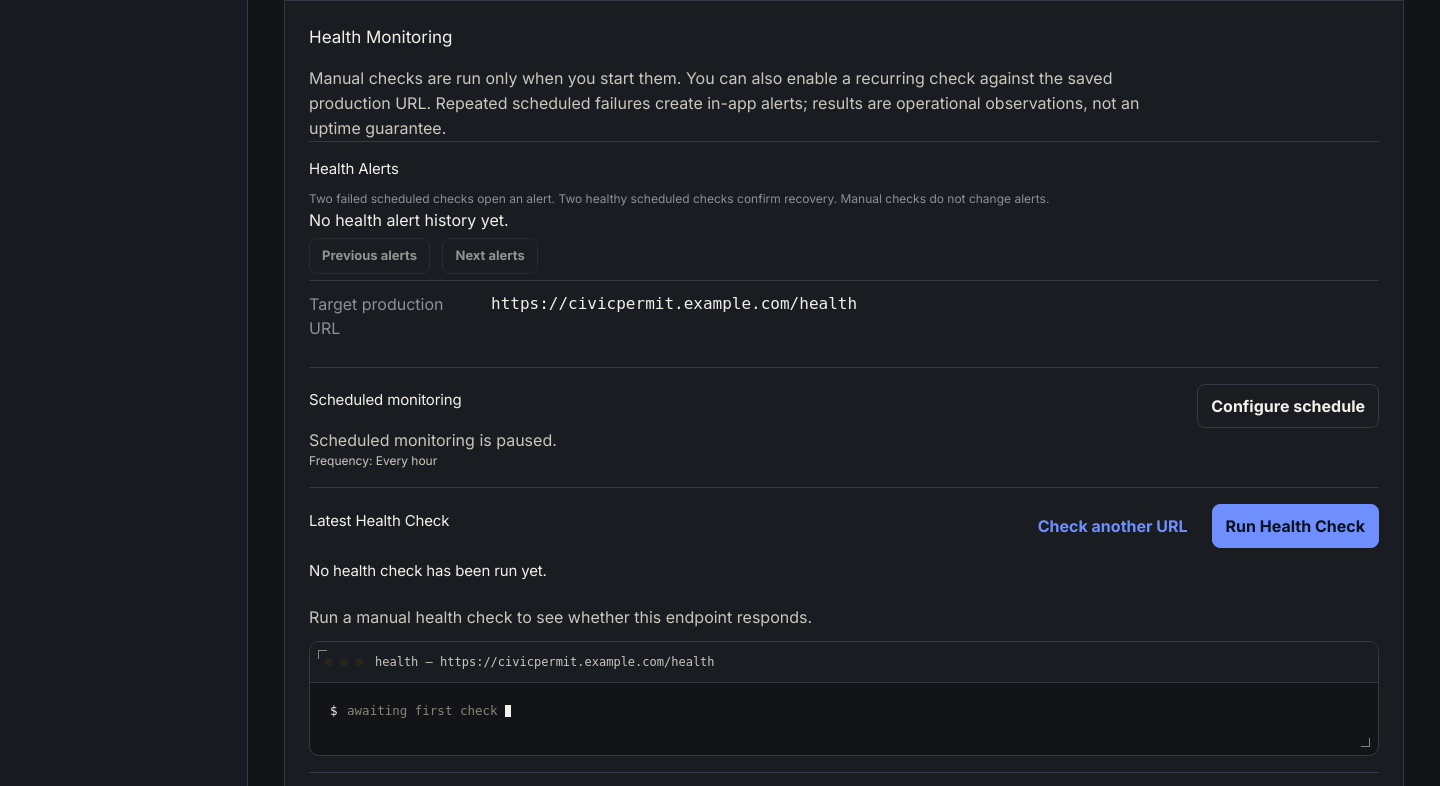
Test case: Project detail Health Monitoring › lets the user enable scheduled monitoring with a supported cadence
(page scrolled)
Check: the text "Scheduled monitoring is paused." is shown, box [309, 430, 557, 450]
Click the button "Configure schedule" at x=1288, y=406, box [1197, 384, 1379, 428]
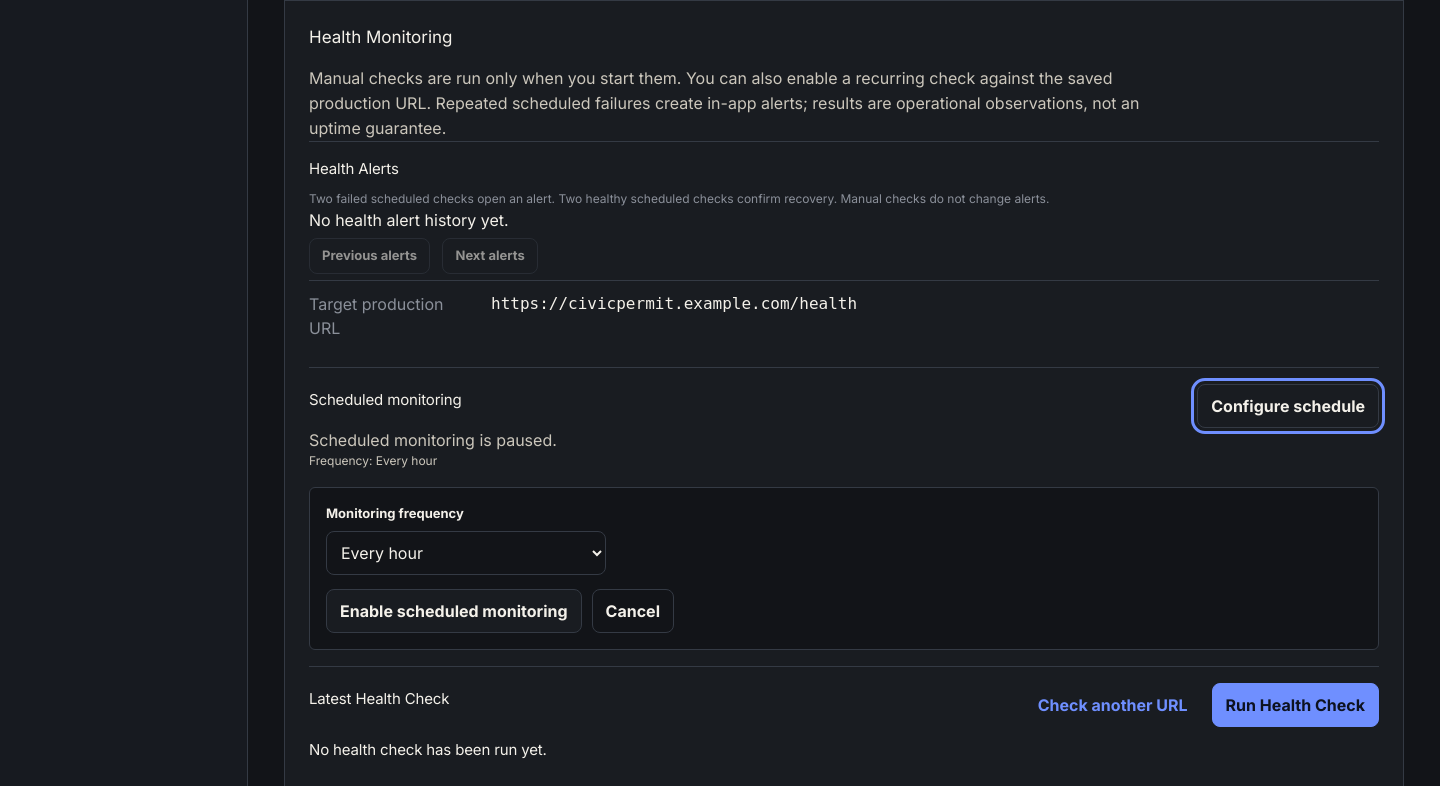
Select "Every hour" in the dropdown labelled "Monitoring frequency" at x=466, y=553, box [326, 531, 606, 575]
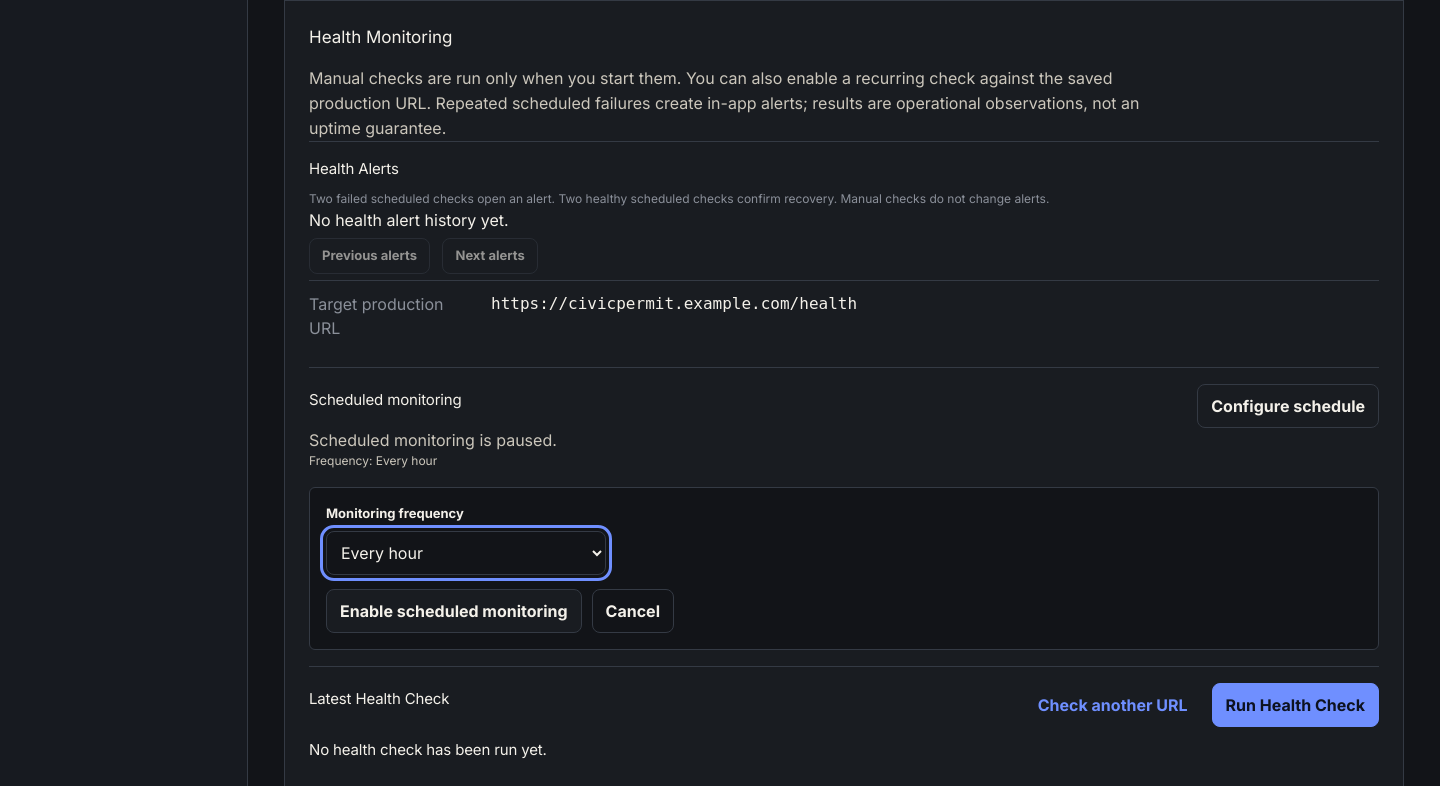
Click the button "Enable scheduled monitoring" at x=454, y=611, box [326, 589, 582, 633]
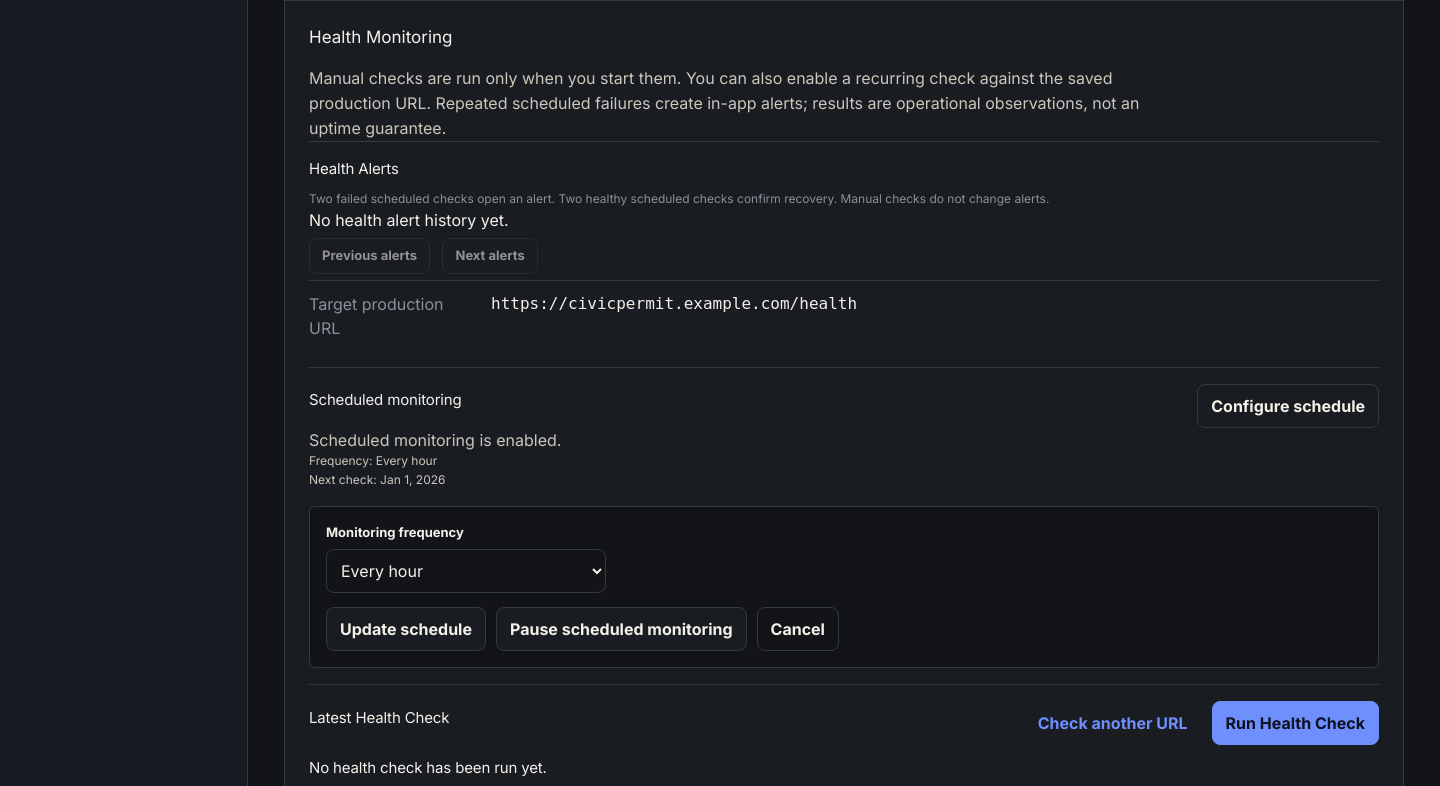
Check: the text "Scheduled monitoring is enabled." is shown, box [309, 430, 561, 450]
